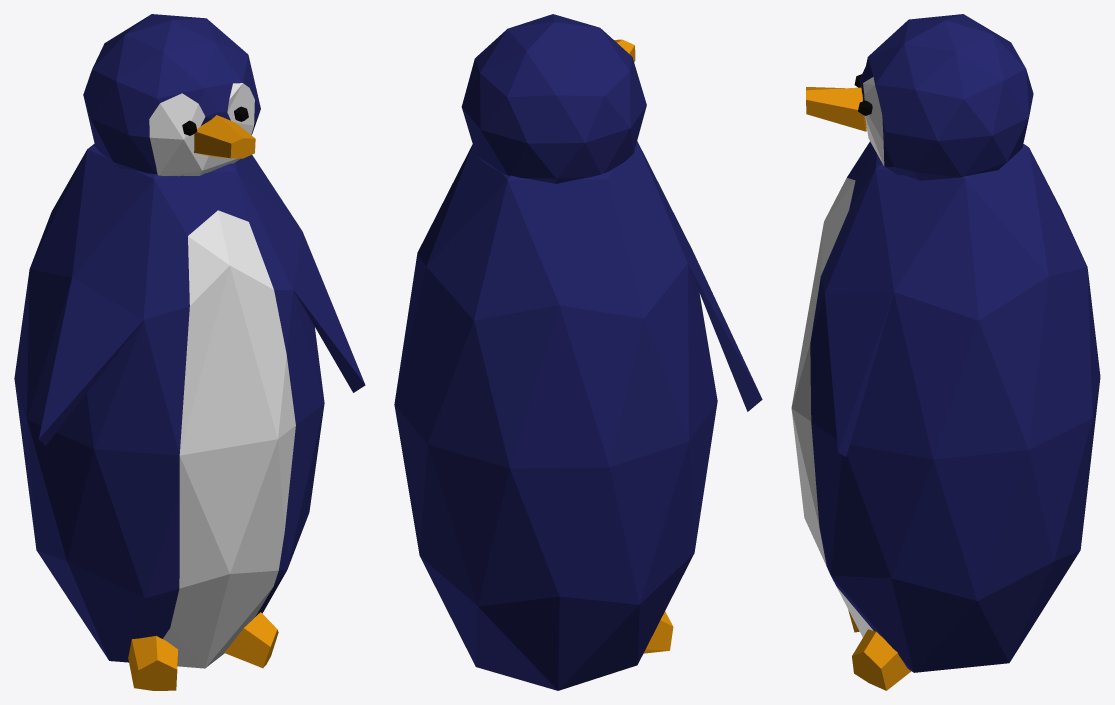
File: PenguinNavy.fbx
3 views of the same model, side by side, from view 1: azimuth 30°, elevation 25°; view 2: azimuth 150°, elevation 25°; view 3: azimuth 270°, elevation 25° (orthographic). The views are drawn at different scales.
Visible parts, largest first — view 1: Body.006, Head.005, Beak.004; view 2: Body.006, Head.005; view 3: Body.006, Head.005, Beak.004.
Boxes of the visible parts, x1=… form: Body.006: x1=14, y1=144, x2=365, y2=690; Head.005: x1=83, y1=14, x2=260, y2=176; Beak.004: x1=194, y1=115, x2=255, y2=158; Body.006: x1=394, y1=141, x2=762, y2=690; Head.005: x1=461, y1=14, x2=646, y2=183; Body.006: x1=791, y1=141, x2=1100, y2=690; Head.005: x1=854, y1=14, x2=1033, y2=180; Beak.004: x1=806, y1=87, x2=866, y2=131.
Size of the model in its own units: 171 by 334 by 147.
